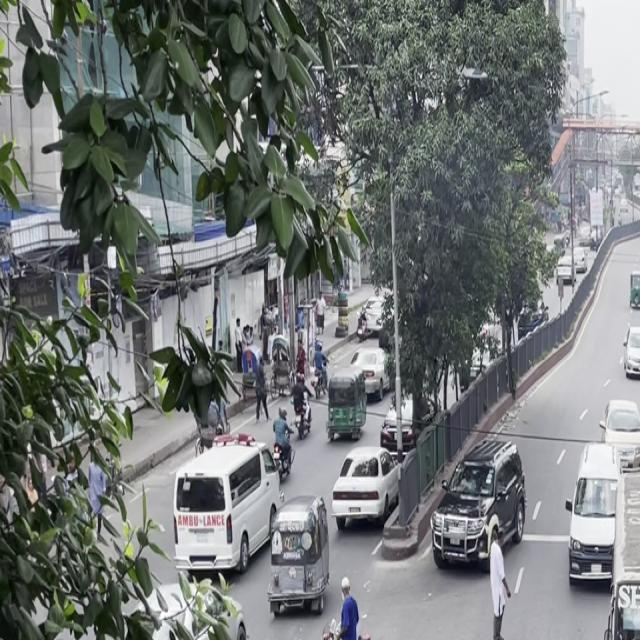bicycle: (304, 582, 397, 640)
bus: (590, 469, 640, 640)
car: (166, 434, 284, 584), (426, 431, 530, 580), (559, 437, 622, 598), (326, 435, 405, 538), (599, 389, 640, 476), (620, 322, 640, 390)
rickshaw: (259, 492, 336, 626)
